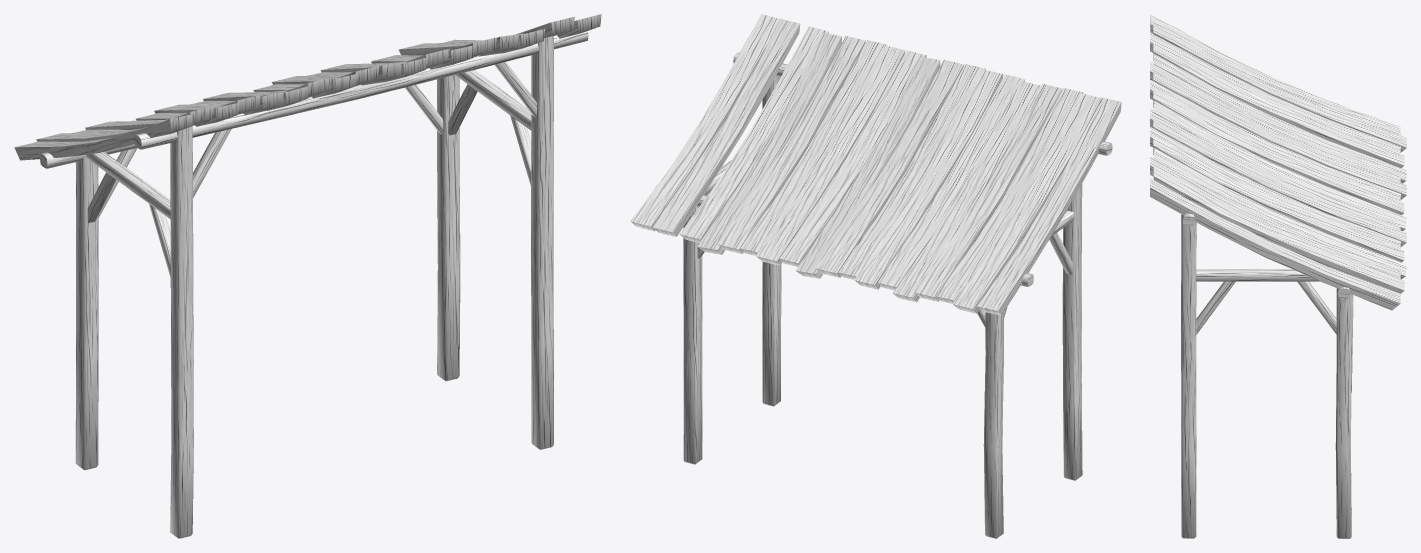
Rendered from ARC0110025.fbx.
3 renders of one model, left to right at view 1: azimuth 30°, elevation 25°; view 2: azimuth 150°, elevation 25°; view 3: azimuth 270°, elevation 25°, orthographic. The views are drawn at different scales.
Parts seen in each view (by area): view 1: smARC0110025; view 2: smARC0110025; view 3: smARC0110025.
Boxes of the visible parts, <box> form: smARC0110025: <box>14,14,601,538</box>; smARC0110025: <box>630,14,1121,538</box>; smARC0110025: <box>1150,14,1406,538</box>.
Size of what is drawn, in the model's own units: 460 by 437 by 278.
Materials: 1 (1 with a texture image).
